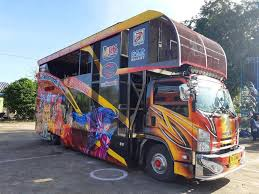truck: (33, 26, 246, 183)
